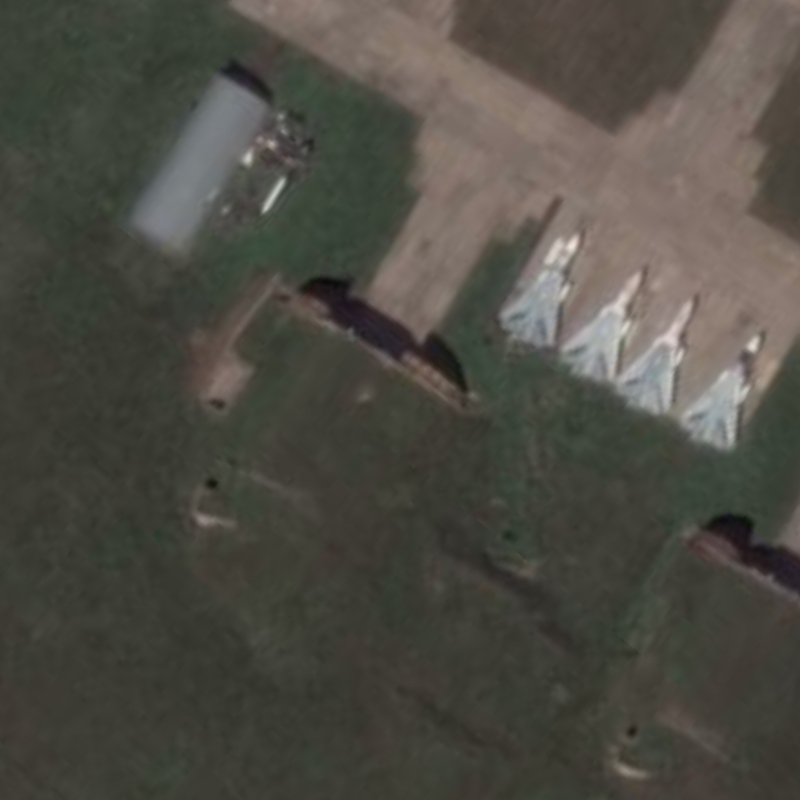A20: (495, 228, 583, 352), (676, 331, 764, 455), (611, 293, 697, 419), (556, 267, 646, 385)
